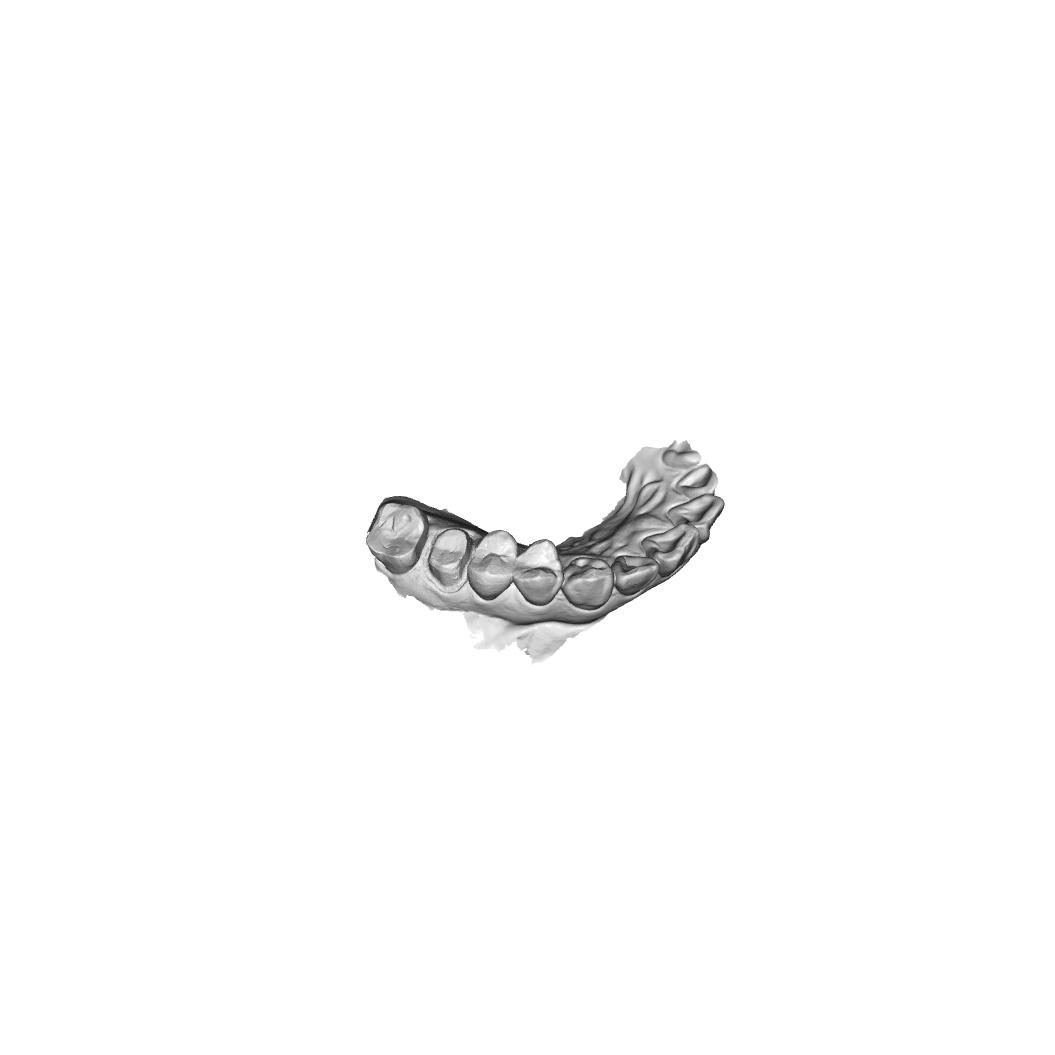canine: (561, 555, 615, 611)
crown: (425, 526, 473, 592)
incisor: (639, 523, 701, 578), (665, 493, 725, 546), (611, 554, 660, 596), (674, 463, 719, 499)
molar: (363, 500, 430, 577)
premolar: (466, 529, 518, 602), (513, 538, 565, 608)
